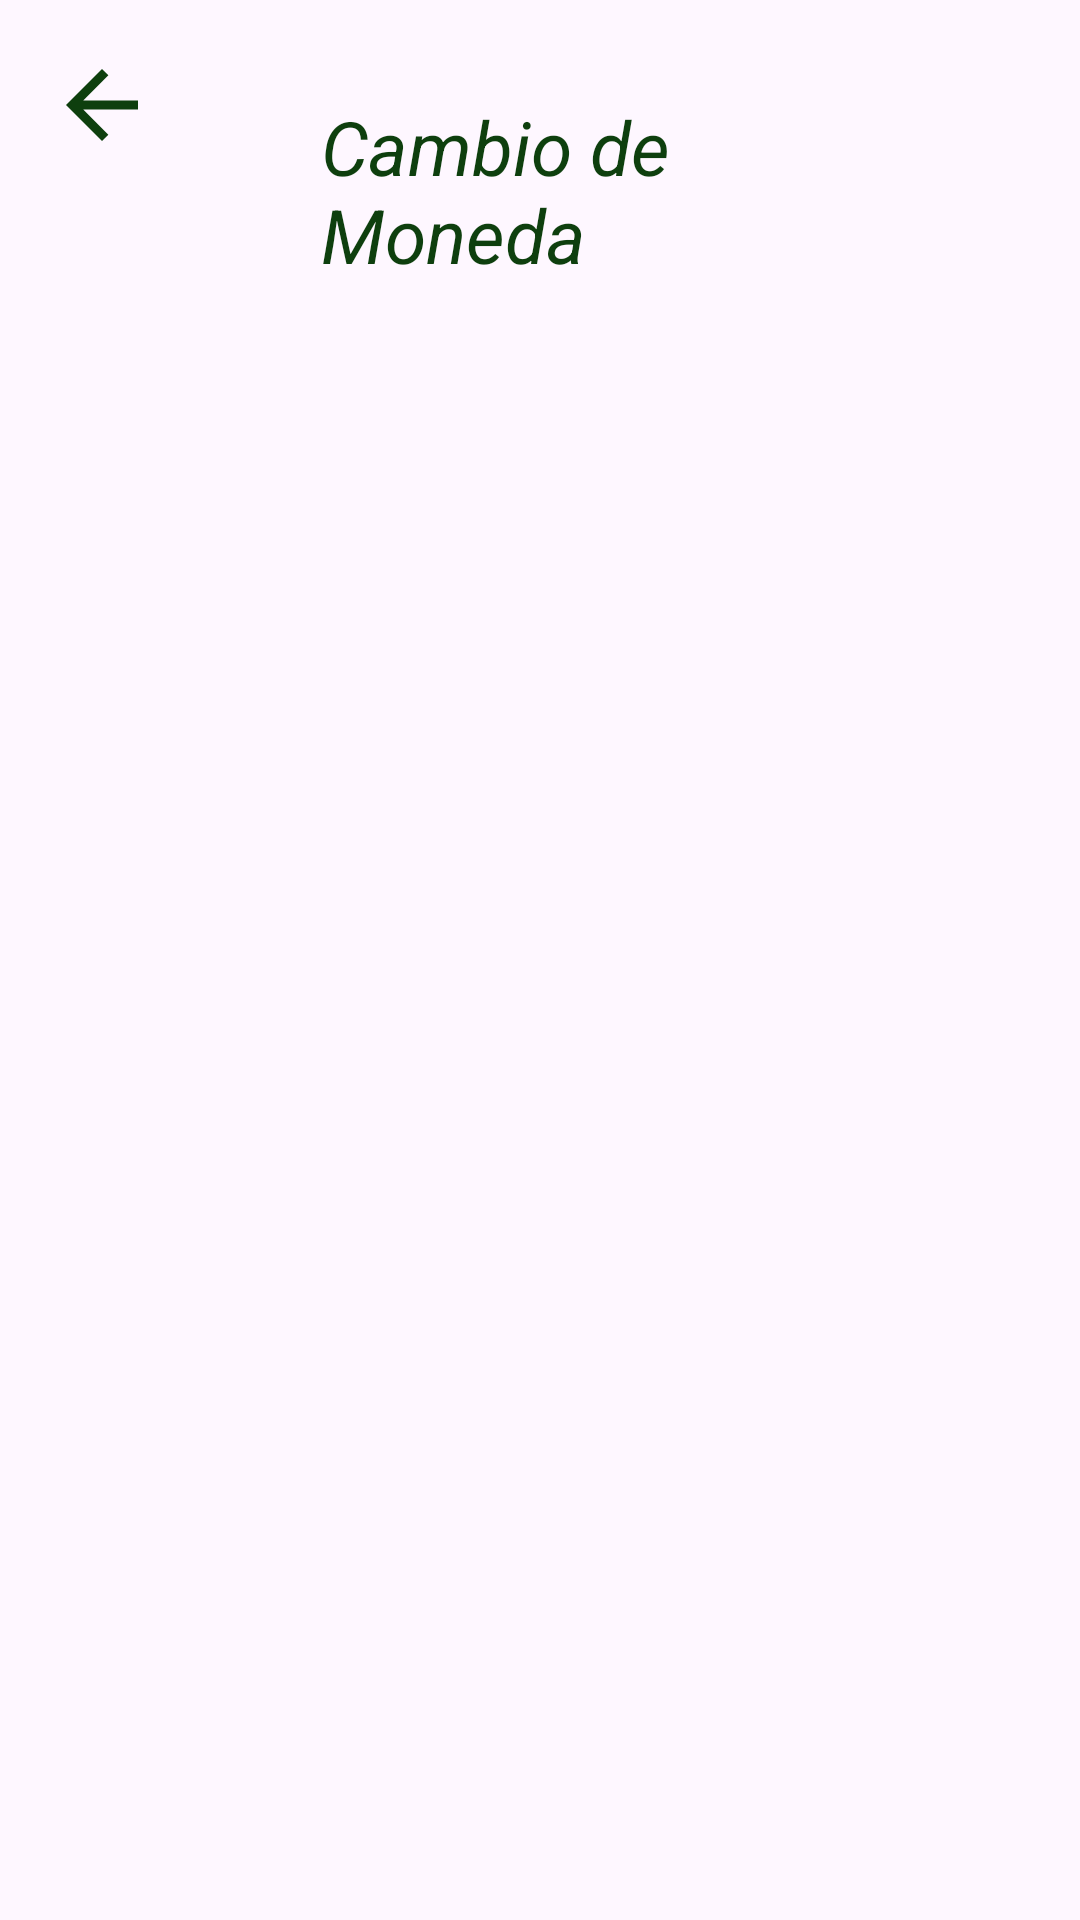

Icon bounding boxes for this 1080 x 1920 phone screenshot, format [left=x1, top=y1, right=x2, bottom=y2]:
arrow back: [left=66, top=69, right=138, bottom=141]
